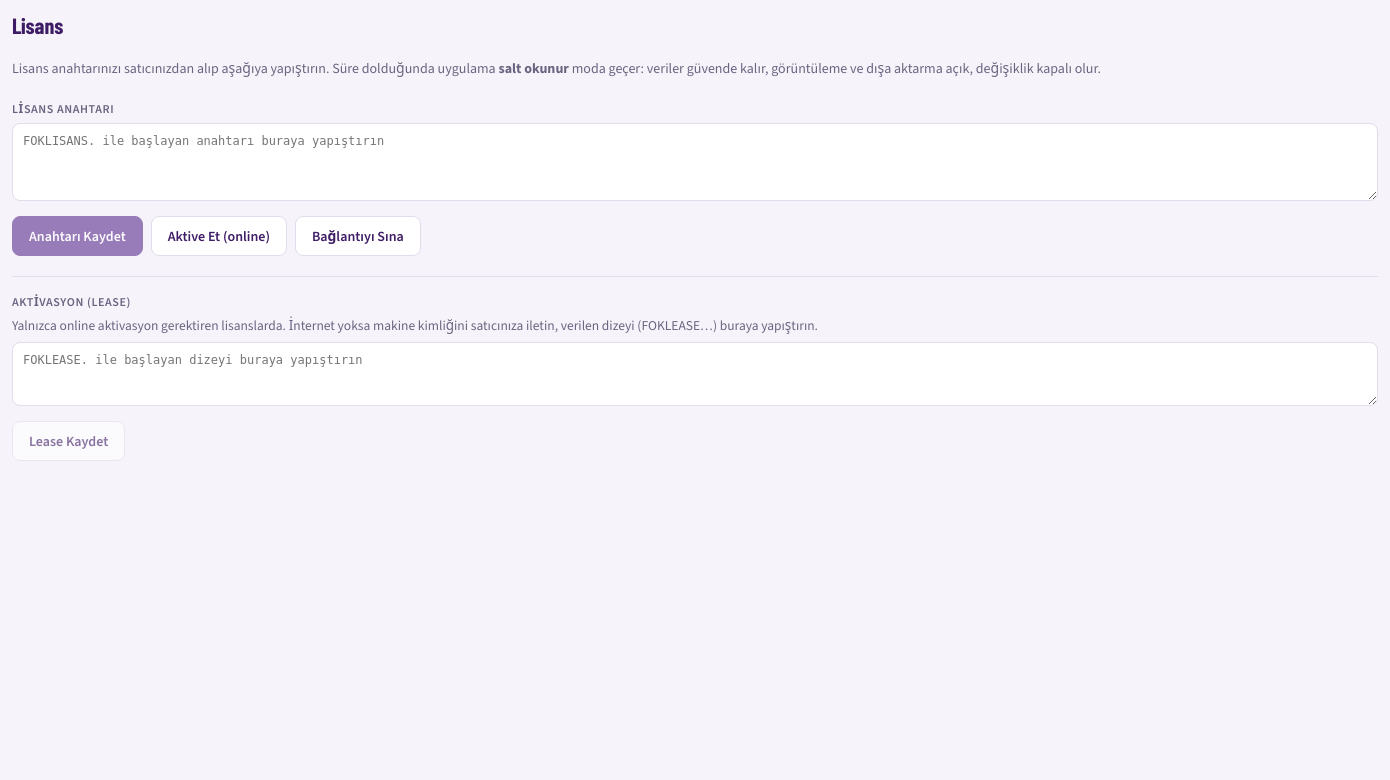
Test: Ayarlar > Lisans — anahtar kaydı › aktivasyon otomatik başarılıysa 'kaydedildi ve aktive edildi', durum Lisanslı
Type " FOKLISANS.a.b " into the text box named "Lisans anahtarı" at coordinates (695, 162), box [12,123,1378,201]
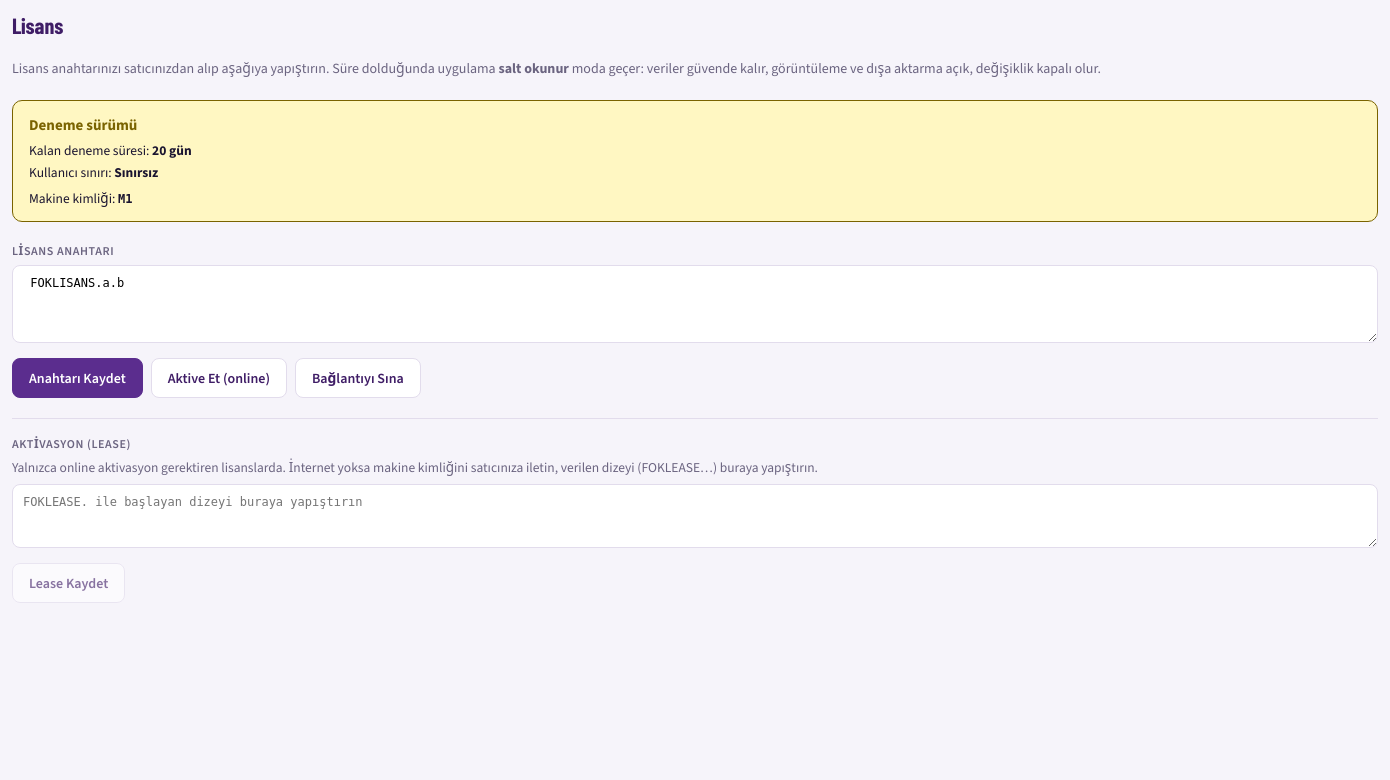
Click the button "Anahtarı Kaydet" at coordinates (77, 378), box [12,358,143,398]
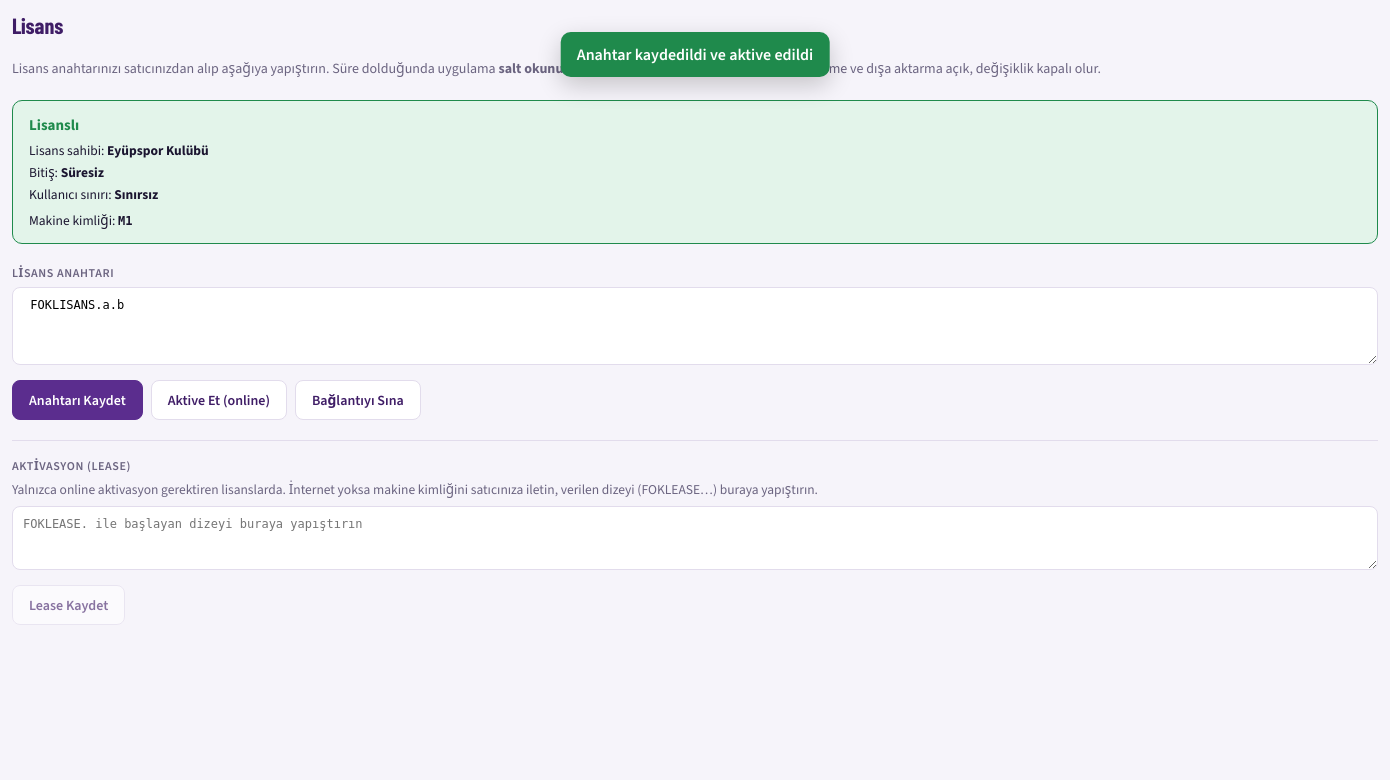
expect the text "Anahtar kaydedildi ve aktive edildi" is shown: met, box [561,32,829,77]
expect the text "Lisanslı" is shown: met, box [29,115,79,135]
